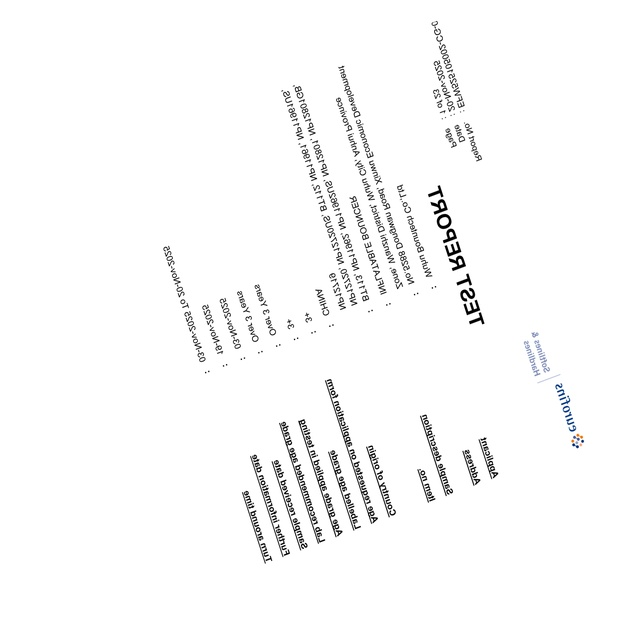eurofins: (550, 378, 591, 456)
